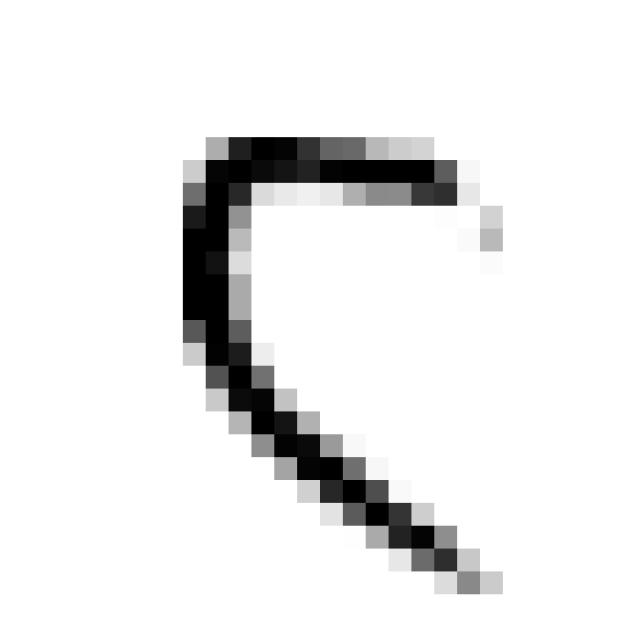2 -two-: (156, 110, 520, 610)
